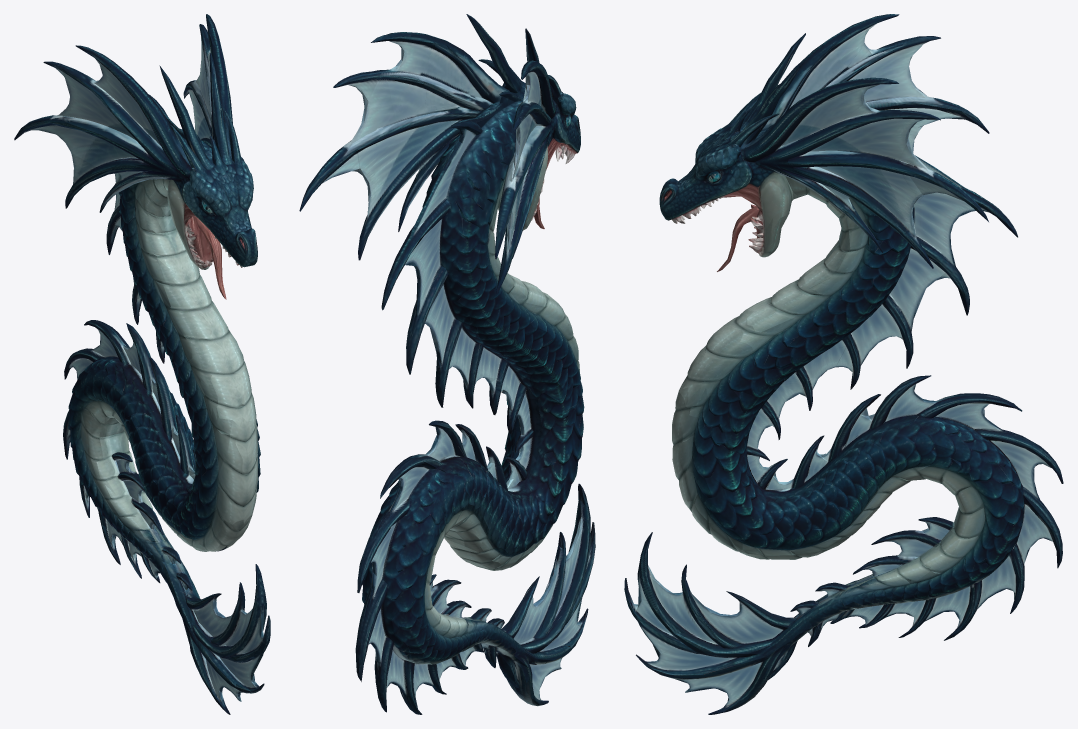
The model's file is Meshy_AI_Bakunawa_LowPoly_Opti_1016031641_texture.fbx.
3 views of the same model, side by side, from view 1: azimuth 30°, elevation 25°; view 2: azimuth 150°, elevation 25°; view 3: azimuth 270°, elevation 25° (orthographic). The views are drawn at different scales.
Parts seen in each view (by area): view 1: output_unwrapped; view 2: output_unwrapped; view 3: output_unwrapped.
Boxes of the visible parts, <box> form: output_unwrapped: <box>14,14,270,714</box>; output_unwrapped: <box>299,14,595,714</box>; output_unwrapped: <box>624,14,1063,714</box>.
Bounding box in the file's own units: 54.76 × 190 × 113.
Materials: 1 (1 with a texture image).
